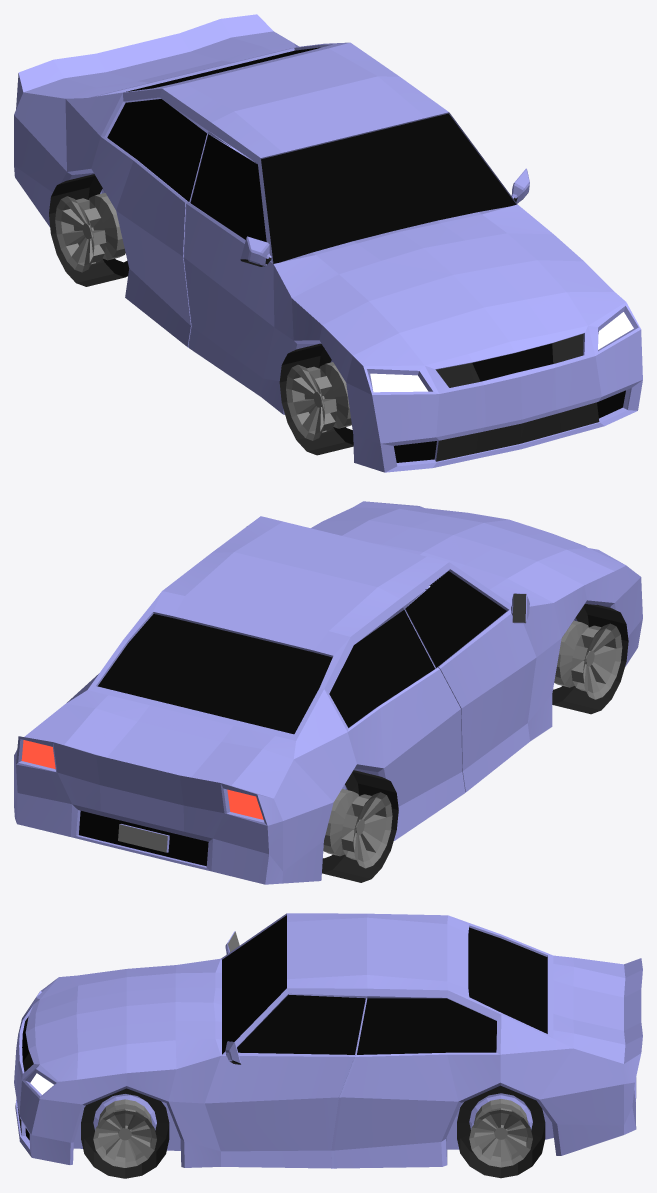
Rendered from car.glb.
3 views of the same model, one above another, from view 1: azimuth 30°, elevation 25°; view 2: azimuth 150°, elevation 25°; view 3: azimuth 270°, elevation 25° (orthographic). The views are drawn at different scales.
Parts seen in each view (by area): view 1: Chassis, Wheel_RR, Wheel_FR; view 2: Chassis, Wheel_RR, Wheel_FR; view 3: Chassis, Wheel_RL, Wheel_FL.
Part boxes in pixels (x1,y1,x2,y2): Chassis: [14, 14, 642, 472]; Wheel_RR: [49, 174, 129, 286]; Wheel_FR: [279, 343, 353, 455]; Chassis: [14, 501, 642, 884]; Wheel_RR: [322, 770, 398, 882]; Wheel_FR: [552, 604, 628, 714]; Chassis: [14, 913, 642, 1168]; Wheel_RL: [457, 1085, 545, 1178]; Wheel_FL: [81, 1088, 169, 1178].
Size of the model in its own units: 1.87 by 1.28 by 4.2.
